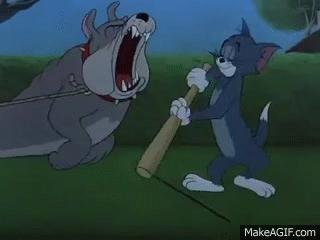tom: (169, 17, 284, 199)
